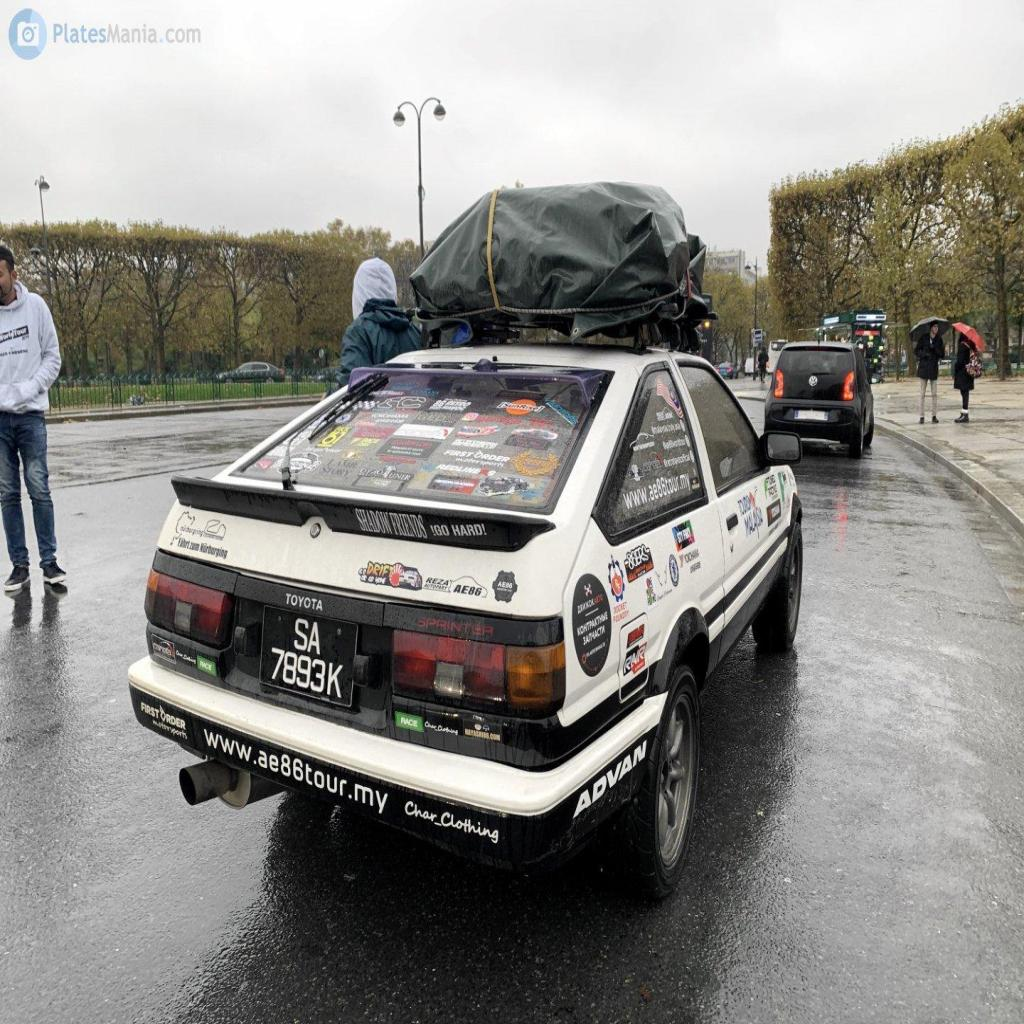car: (125, 344, 804, 899)
car plate: (259, 606, 356, 706)
